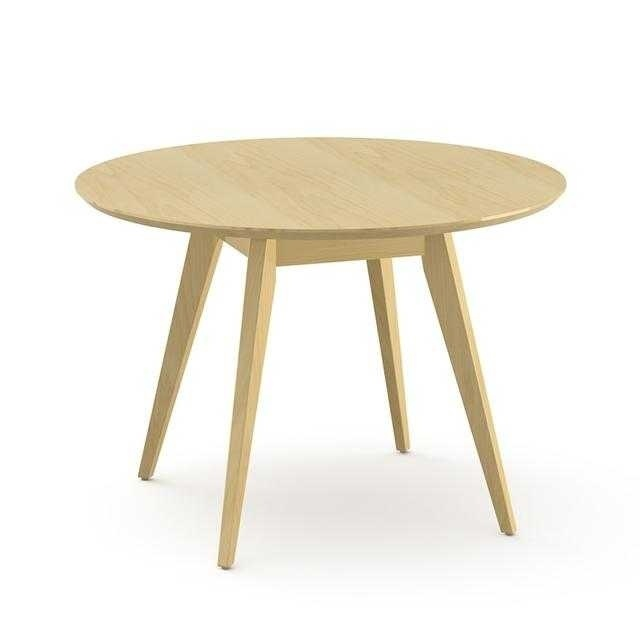obstacle: (76, 138, 564, 568)
